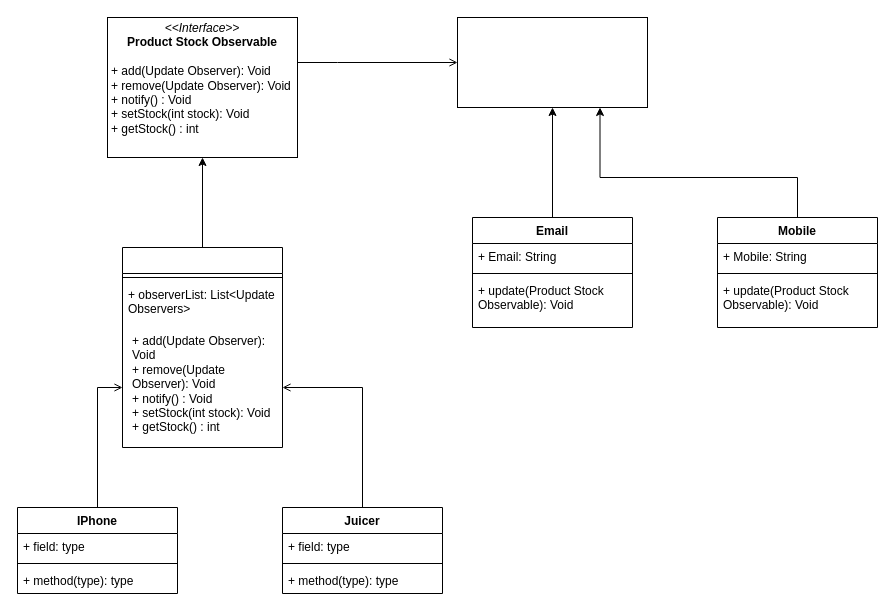
The diagram is 895 pixels wide and 614 high, and some of its shapes have lost their labels. Here are the shapes that lost their labels. From the top down, the box of each, then its label:
(456, 16, 648, 108): <<Interface>> Update Observer + update(Product Stock Observable): Void
(122, 246, 282, 448): Product Stock Impl
